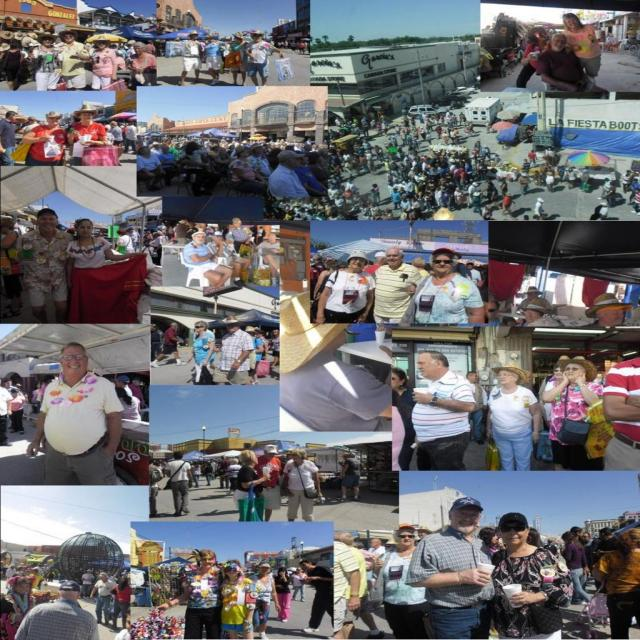nomask: (500, 520, 526, 544), (63, 346, 86, 373), (452, 509, 478, 532), (416, 354, 435, 376), (432, 253, 452, 273), (564, 362, 582, 379), (396, 528, 414, 544), (40, 213, 56, 230), (602, 307, 617, 325), (498, 369, 514, 384), (78, 220, 92, 236), (386, 373, 400, 389), (386, 250, 400, 265), (551, 36, 565, 51), (350, 256, 364, 268), (526, 308, 538, 321), (565, 15, 577, 27), (200, 556, 212, 568), (225, 564, 237, 576), (488, 301, 496, 318), (80, 112, 91, 122), (554, 367, 564, 378), (18, 582, 28, 593), (290, 156, 301, 166), (48, 115, 60, 124), (488, 530, 497, 542), (63, 32, 73, 42), (226, 322, 236, 332), (250, 452, 258, 464), (42, 37, 52, 46), (195, 233, 204, 243), (418, 529, 427, 538), (292, 451, 300, 461), (97, 40, 105, 49), (266, 450, 274, 459), (526, 293, 536, 300), (116, 378, 124, 386), (268, 234, 276, 242), (260, 566, 268, 574), (300, 562, 308, 570), (254, 146, 262, 154), (234, 35, 242, 42), (469, 373, 476, 381), (134, 46, 142, 53), (214, 235, 222, 242), (302, 155, 309, 163), (368, 540, 376, 547), (254, 34, 261, 41), (242, 150, 249, 157), (142, 147, 150, 153), (100, 574, 106, 581), (279, 569, 285, 576), (6, 380, 12, 387), (195, 323, 200, 331), (192, 33, 198, 39), (207, 36, 213, 42), (218, 148, 224, 154), (305, 144, 311, 150), (135, 379, 140, 386), (583, 532, 588, 539), (578, 529, 582, 537), (12, 114, 17, 120), (233, 221, 239, 226), (153, 143, 158, 149), (172, 324, 177, 330), (343, 453, 348, 459), (28, 119, 33, 124), (13, 391, 18, 396), (468, 263, 472, 269), (163, 146, 167, 152), (174, 142, 178, 148), (151, 324, 155, 330), (273, 330, 277, 336), (109, 122, 113, 127), (181, 219, 185, 224), (297, 568, 301, 573), (314, 144, 318, 149), (189, 223, 193, 227), (158, 458, 162, 462), (86, 569, 90, 573), (256, 332, 260, 336), (410, 198, 414, 202), (118, 232, 122, 236), (402, 197, 407, 200), (473, 183, 476, 187), (487, 182, 489, 188), (524, 158, 527, 162), (348, 179, 350, 184), (128, 122, 131, 125), (33, 570, 35, 574), (210, 459, 212, 463), (500, 180, 502, 184), (416, 186, 418, 190), (569, 170, 571, 173), (399, 188, 402, 190), (335, 195, 337, 198), (373, 186, 375, 188), (443, 131, 445, 133), (394, 189, 396, 191)
